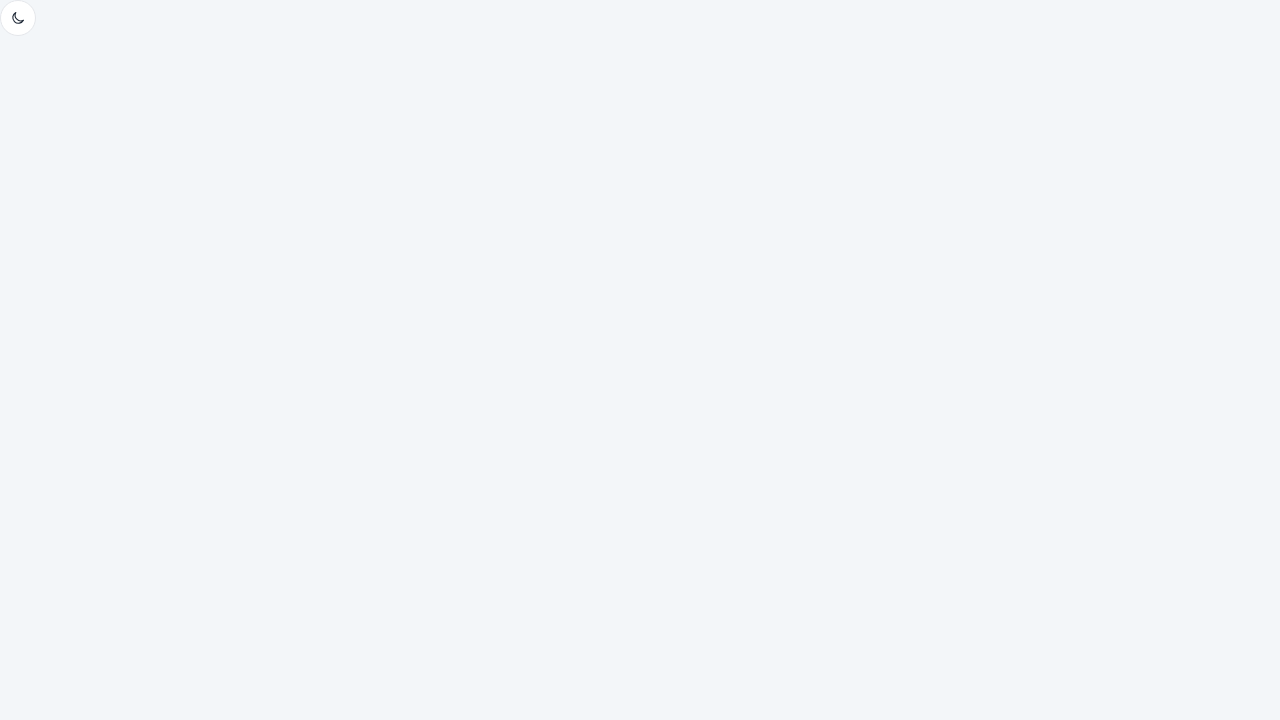
ThemeToggle › switches and persists the theme preference
The width and height of the screenshot is (1280, 720).
Click the button named "Activer le thème sombre" at [18, 18], box [0,0,36,36]
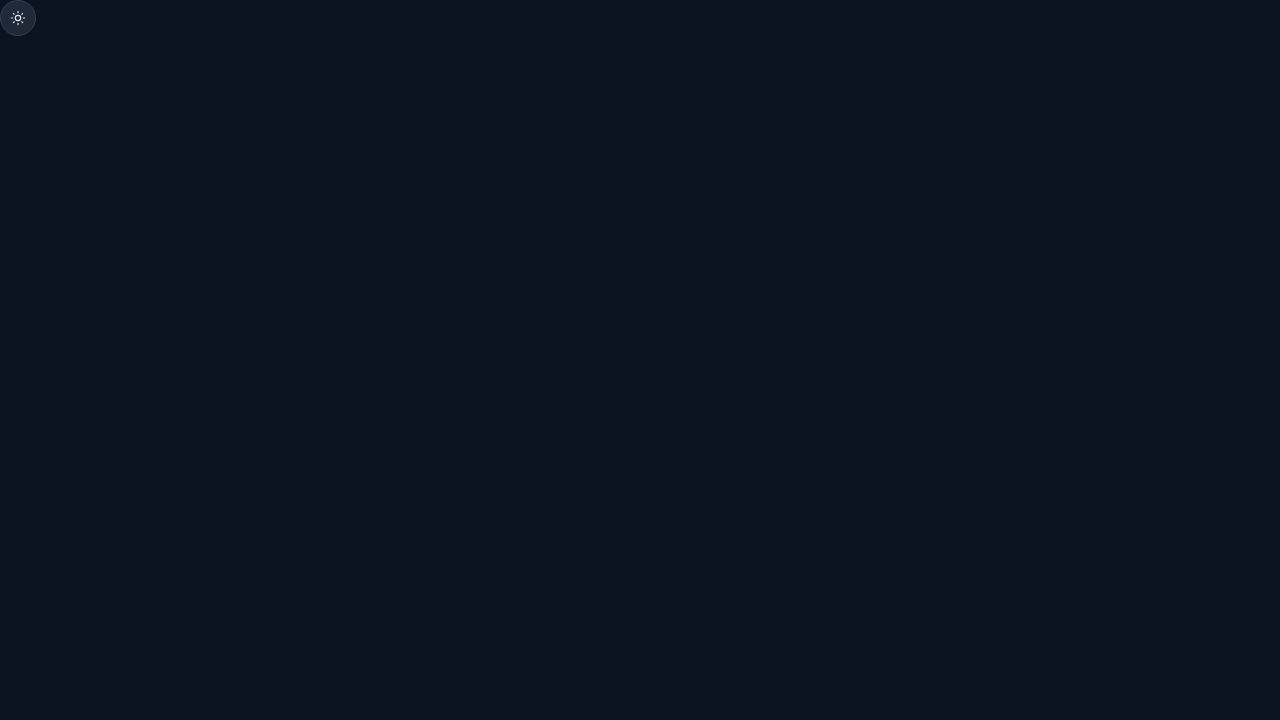
Expected: the button named "Activer le thème clair" is pressed, [0,0,36,36]
